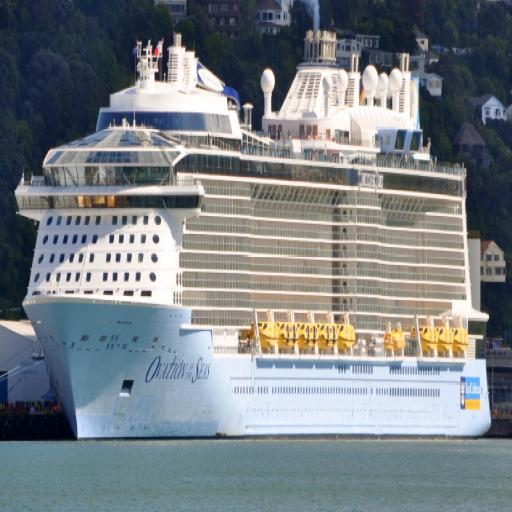cruises: (11, 1, 500, 448)
